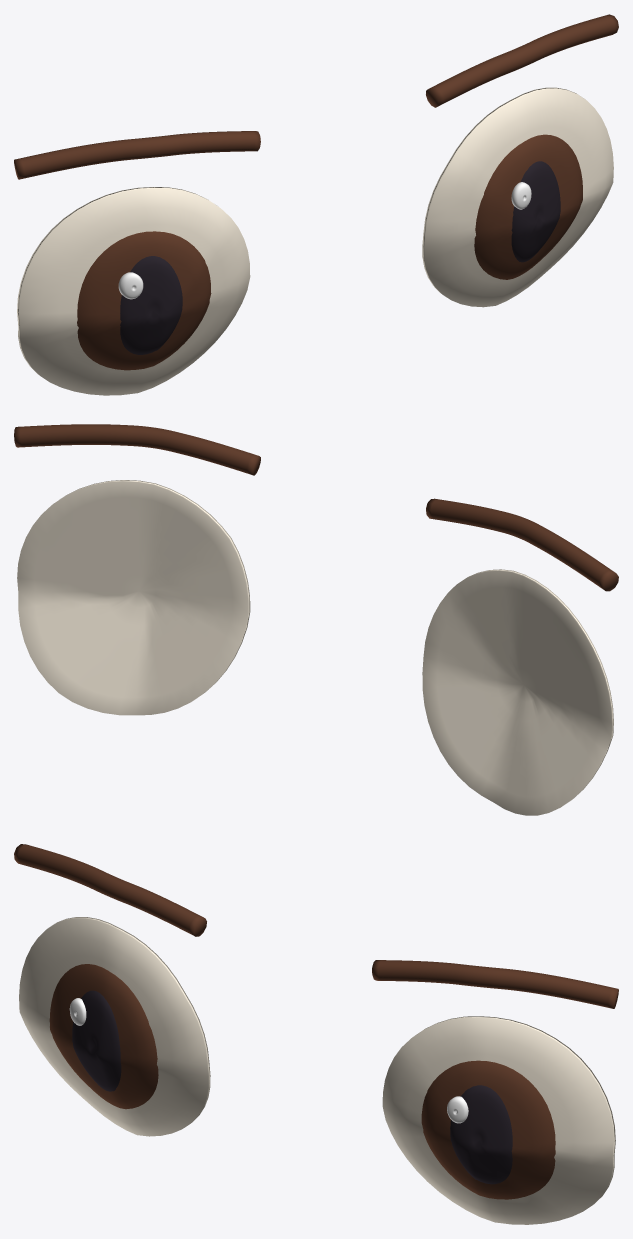
The model's file is 2HT-feminino.glb.
3 views of the same model, one above another, from view 1: azimuth 30°, elevation 25°; view 2: azimuth 150°, elevation 25°; view 3: azimuth 330°, elevation 25° (orthographic).
Parts seen in each view (by area): view 1: sclera--1, sclera-1, iris--1, iris-1, brow--1, pupil--1, brow-1, pupil-1, highlight--1; view 2: sclera-1, sclera--1, brow-1, brow--1; view 3: sclera-1, sclera--1, iris-1, iris--1, brow-1, pupil-1, brow--1, pupil--1.
Part boxes in pixels (x1,y1,x2,y2): sclera--1: (17, 187, 250, 395); sclera-1: (422, 87, 613, 307); iris--1: (77, 231, 211, 370); iris-1: (474, 134, 582, 279); brow--1: (14, 131, 260, 179); pupil--1: (120, 256, 182, 354); brow-1: (426, 14, 618, 107); pupil-1: (511, 161, 560, 262); highlight--1: (118, 272, 143, 299); sclera-1: (17, 480, 250, 715); sclera--1: (422, 569, 613, 815); brow-1: (14, 424, 260, 475); brow--1: (426, 498, 618, 591); sclera-1: (382, 1016, 615, 1224); sclera--1: (19, 917, 210, 1136); iris-1: (421, 1060, 555, 1199); iris--1: (49, 964, 158, 1109); brow-1: (372, 960, 618, 1008); pupil-1: (450, 1085, 512, 1184); brow--1: (14, 844, 206, 936); pupil--1: (72, 990, 121, 1091).
Bounding box in the file's own units: 0.0399 × 0.0172 × 0.00544.
